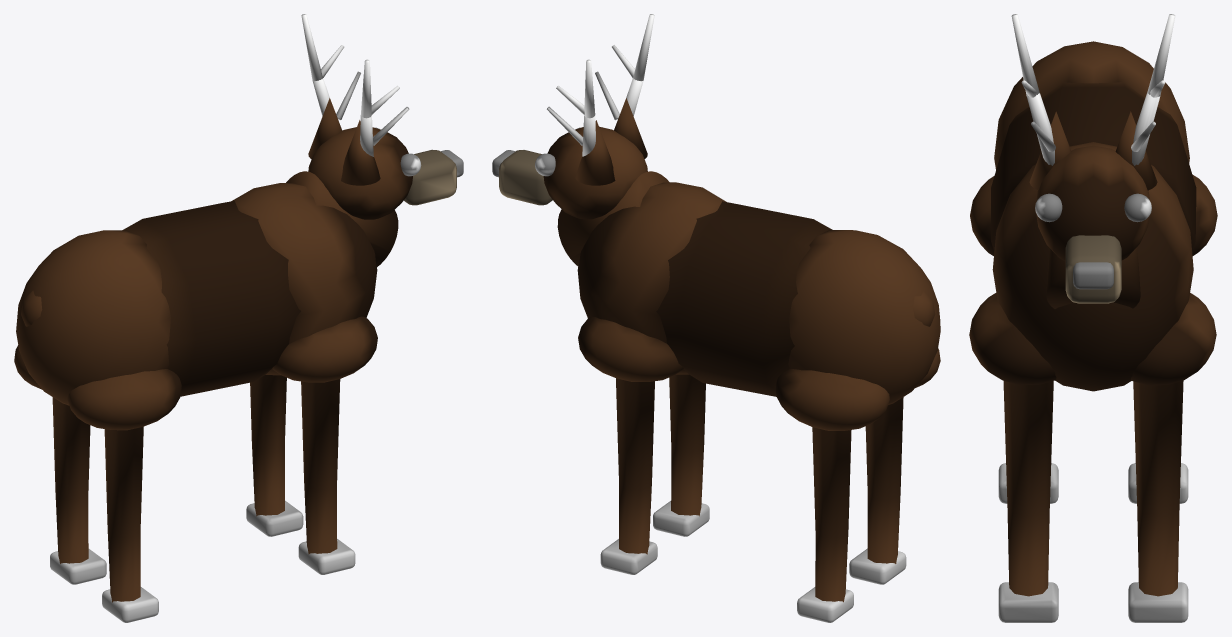
The model's file is deer.obj.
3 views of the same model, side by side, from view 1: azimuth 30°, elevation 25°; view 2: azimuth 150°, elevation 25°; view 3: azimuth 270°, elevation 25° (orthographic). The views are drawn at different scales.
Visible parts, largest first — view 1: deer; view 2: deer; view 3: deer.
Boxes of the visible parts, x1,y1,x2,y2 form: deer: [14, 14, 463, 622]; deer: [492, 14, 940, 622]; deer: [969, 14, 1217, 622].
Size of the model in its own units: 1.35 by 1.49 by 0.5393.
